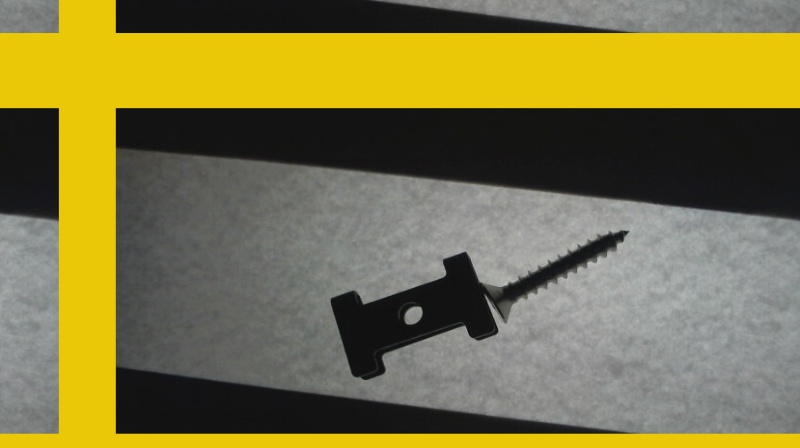O002: (328, 252, 492, 381)
S001: (475, 226, 630, 324)
